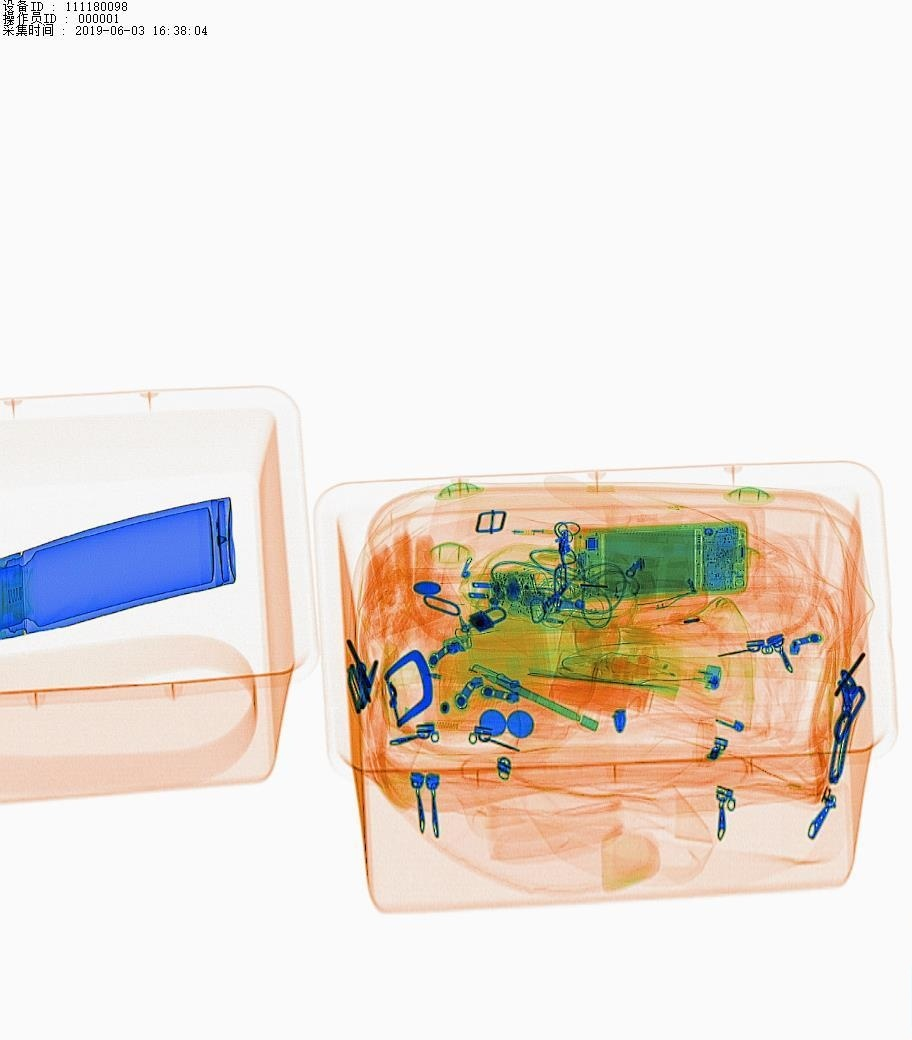NonmetallicFire: (620, 641, 747, 707)
